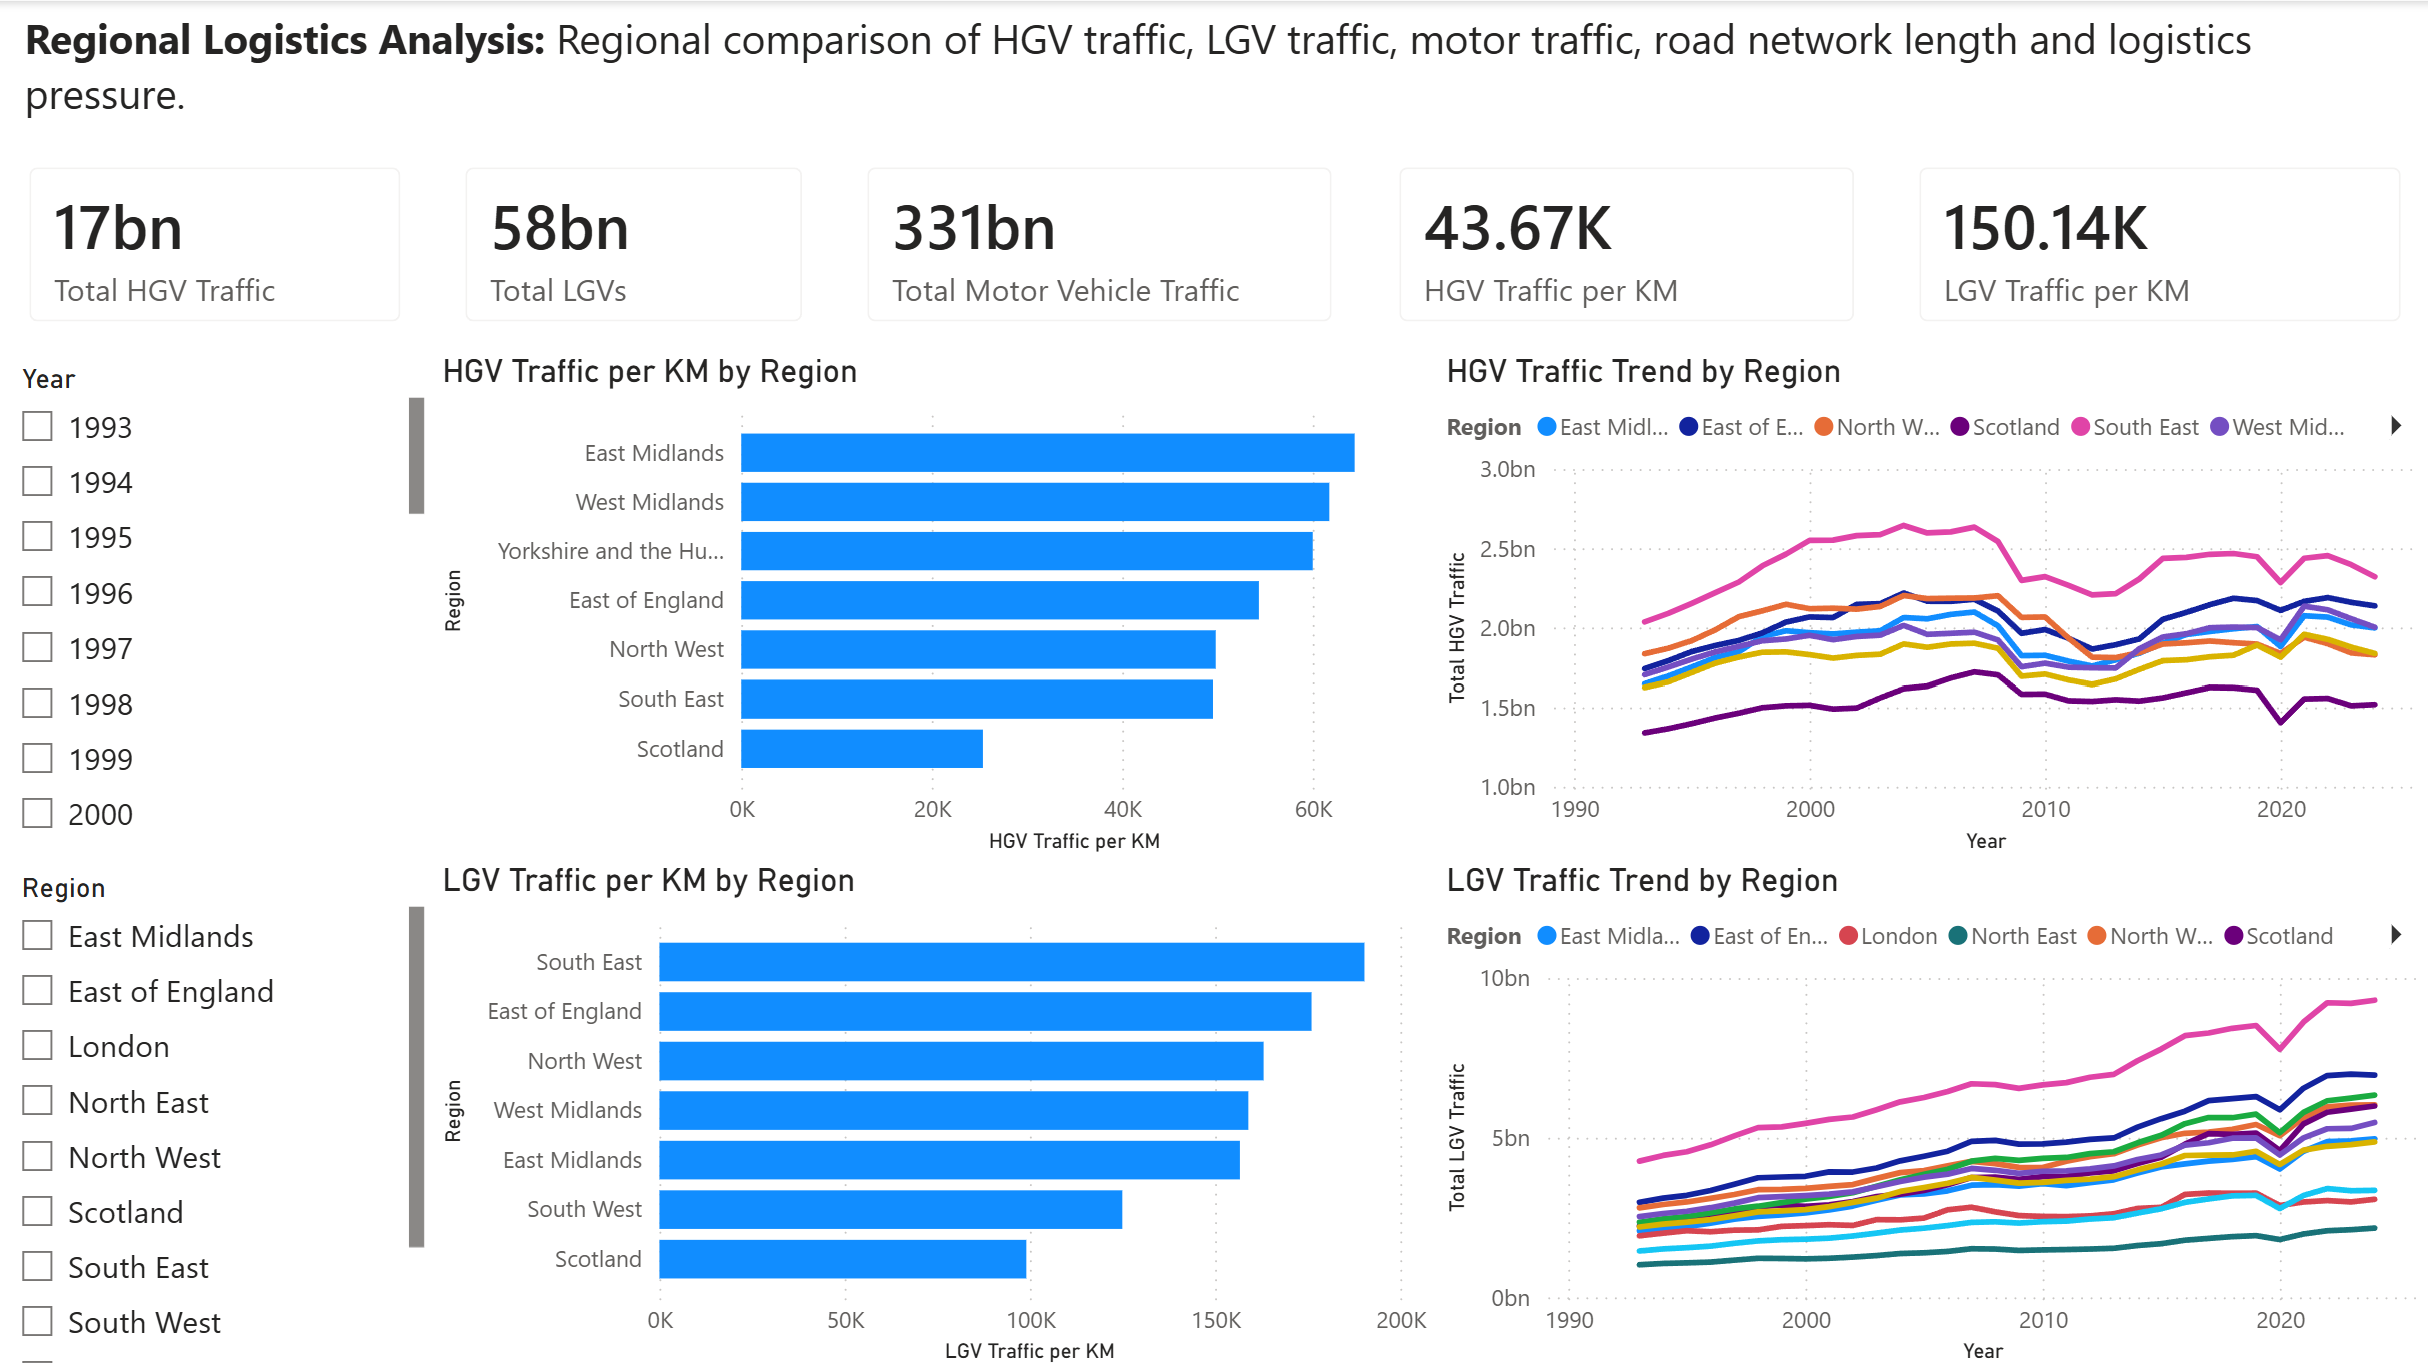

The page's visual inventory and layout, read from the dashboard file:
{"tool":"powerbi","page":{"name":"Regional Logistics Analysis","canvas":[1280,720],"ordinal":1},"visuals":[{"type":"textbox","box":[9.6,0,1270.4,70],"z":0},{"type":"cardVisual","fields":{"Data":["Sum(v_logistics_pressure_proxy.total_hgv_traffic)"]},"box":[0,70,229.4,115.4],"z":1},{"type":"cardVisual","fields":{"Data":["Sum(v_logistics_pressure_proxy.total_lgvs)"]},"box":[229.4,70,211.5,115.4],"z":2},{"type":"cardVisual","fields":{"Data":["Sum(v_logistics_pressure_proxy.total_motor_vehicle_traffic)"]},"box":[440.9,70,278.8,115.4],"z":3},{"type":"cardVisual","fields":{"Data":["Avg(v_logistics_pressure_proxy.hgv_traffic_per_km)"]},"box":[719.7,70,273.3,115.4],"z":4},{"type":"cardVisual","fields":{"Data":["Avg(v_logistics_pressure_proxy.lgv_traffic_per_km)"]},"box":[993,70,287,115.4],"z":5},{"type":"barChart","title":"HGV Traffic per KM by Region","fields":{"Category":["v_logistics_pressure_proxy.region_name"],"Y":["Avg(v_logistics_pressure_proxy.hgv_traffic_per_km)"]},"box":[229.4,185.4,527.4,266.4],"z":6},{"type":"barChart","title":"LGV Traffic per KM by Region","fields":{"Category":["v_logistics_pressure_proxy.region_name"],"Y":["Avg(v_logistics_pressure_proxy.lgv_traffic_per_km)"]},"box":[229.4,451.8,527.4,267.8],"z":7},{"type":"lineChart","title":"HGV Traffic Trend by Region","fields":{"Category":["v_hgv_trend_by_region.year"],"Y":["Sum(v_hgv_trend_by_region.total_hgv_traffic)"],"Series":["v_hgv_trend_by_region.region_name"]},"box":[756.7,185.4,523.3,266.4],"z":8},{"type":"lineChart","title":"LGV Traffic Trend by Region","fields":{"Category":["v_hgv_trend_by_region.year"],"Y":["Sum(v_hgv_trend_by_region.total_lgvs)"],"Series":["v_hgv_trend_by_region.region_name"]},"box":[756.7,451.8,523.3,267.8],"z":9},{"type":"slicer","fields":{"Values":["v_logistics_pressure_proxy.year"]},"box":[0,185.4,229.4,266.4],"z":10},{"type":"slicer","fields":{"Values":["v_latest_logistics_pressure_proxy.region_name"]},"box":[0,451.8,229.4,267.8],"z":11}]}

Visuals, with their boxes in screenshot pixels (x1, y1, x2, y2), scaled from the page's 1280x720 canvas onto the 2428x1366 screenshot:
textbox: locate(18, 0, 2427, 133)
cardVisual - Sum(v_logistics_pressure_proxy.total_hgv_traffic): locate(0, 133, 435, 352)
cardVisual - Sum(v_logistics_pressure_proxy.total_lgvs): locate(435, 133, 836, 352)
cardVisual - Sum(v_logistics_pressure_proxy.total_motor_vehicle_traffic): locate(836, 133, 1365, 352)
cardVisual - Avg(v_logistics_pressure_proxy.hgv_traffic_per_km): locate(1365, 133, 1884, 352)
cardVisual - Avg(v_logistics_pressure_proxy.lgv_traffic_per_km): locate(1884, 133, 2427, 352)
"HGV Traffic per KM by Region" barChart: locate(435, 352, 1436, 857)
"LGV Traffic per KM by Region" barChart: locate(435, 857, 1436, 1365)
"HGV Traffic Trend by Region" lineChart: locate(1435, 352, 2427, 857)
"LGV Traffic Trend by Region" lineChart: locate(1435, 857, 2427, 1365)
slicer - v_logistics_pressure_proxy.year: locate(0, 352, 435, 857)
slicer - v_latest_logistics_pressure_proxy.region_name: locate(0, 857, 435, 1365)
